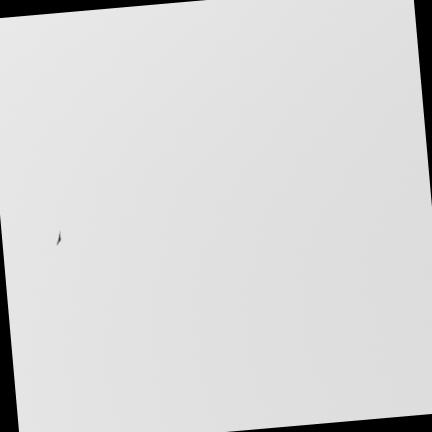Shahed: (56, 231, 60, 245)
